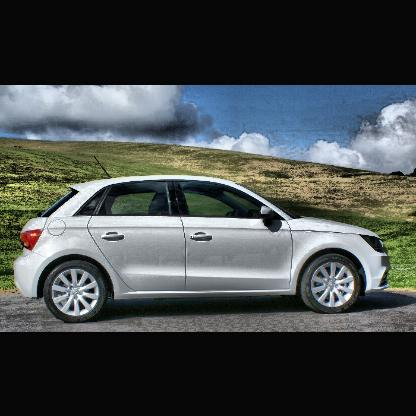Suzuki SX4 Hatchback 2012: (11, 155, 393, 326)
